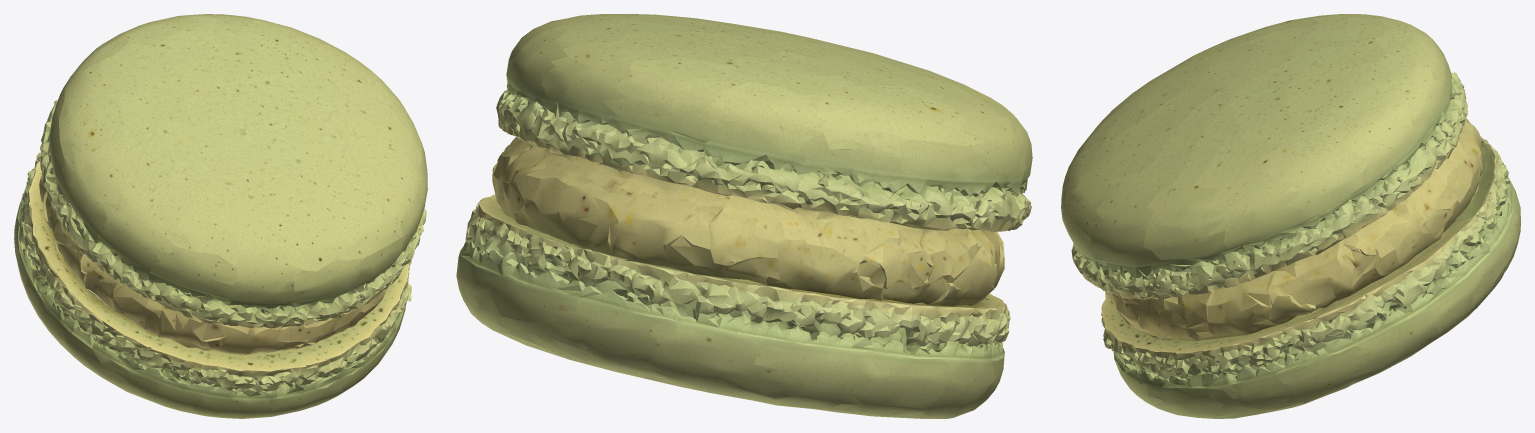
The model's file is macaron2.glb.
3 views of the same model, side by side, from view 1: azimuth 30°, elevation 25°; view 2: azimuth 150°, elevation 25°; view 3: azimuth 270°, elevation 25° (orthographic). The views are drawn at different scales.
Parts seen in each view (by area): view 1: Mesh_0; view 2: Mesh_0; view 3: Mesh_0.
Boxes of the visible parts, x1,y1,x2,y2 form: Mesh_0: [14, 14, 427, 418]; Mesh_0: [456, 14, 1032, 418]; Mesh_0: [1061, 14, 1520, 418].
Size of the model in its own units: 1.8 by 1.5 by 1.9.
1 material, 1 textured.
